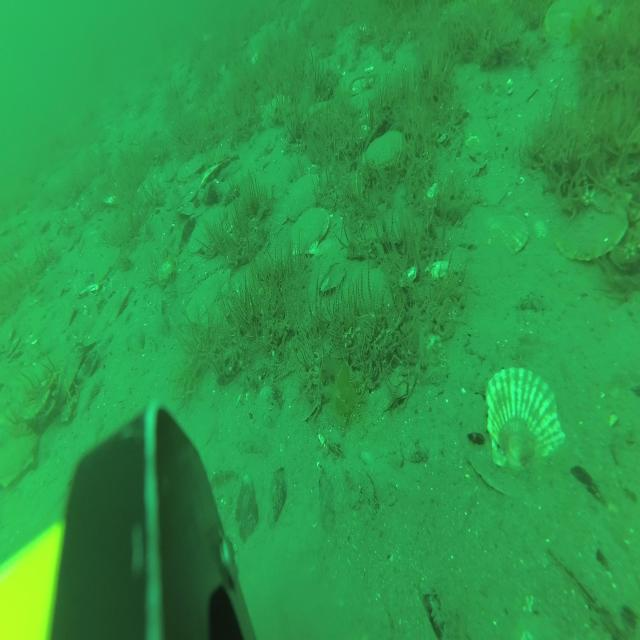scallop: (484, 360, 569, 472), (553, 178, 631, 263), (0, 381, 46, 490), (186, 267, 234, 330), (482, 210, 531, 260), (187, 201, 230, 256), (542, 2, 594, 45), (290, 206, 332, 257), (282, 173, 324, 222), (363, 127, 406, 171), (175, 152, 207, 186)
